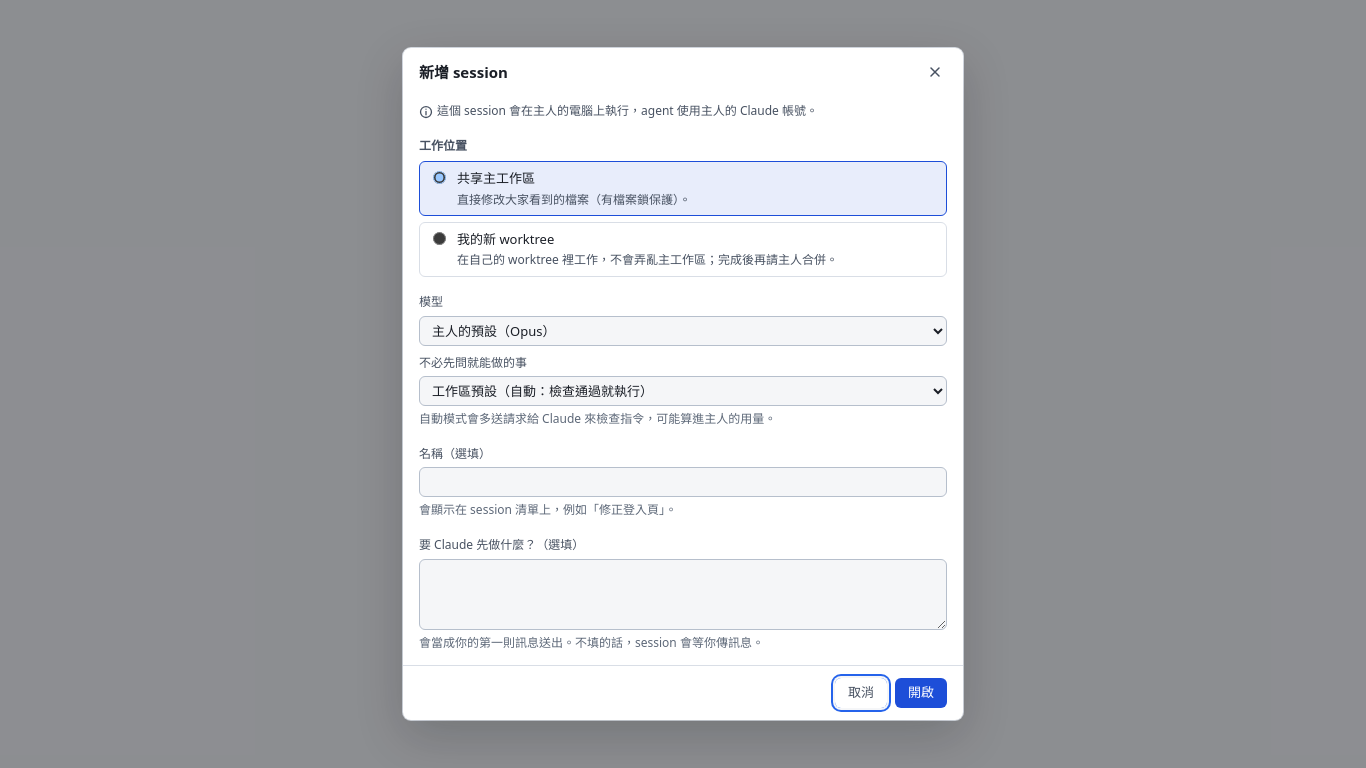
Scenario: new session dialog in zh-TW: git › a repository without a commit: the refusal says so, in the host’s words
The width and height of the screenshot is (1366, 768).
What coordinates should you click on to do the following:
click the radio button labelled "我的新 worktree 在自己的 worktree 裡工作，不會弄亂主工作區；完成後再請主人合併。"
I would click on:
 (440, 239)
Its box is [433,232,446,245].
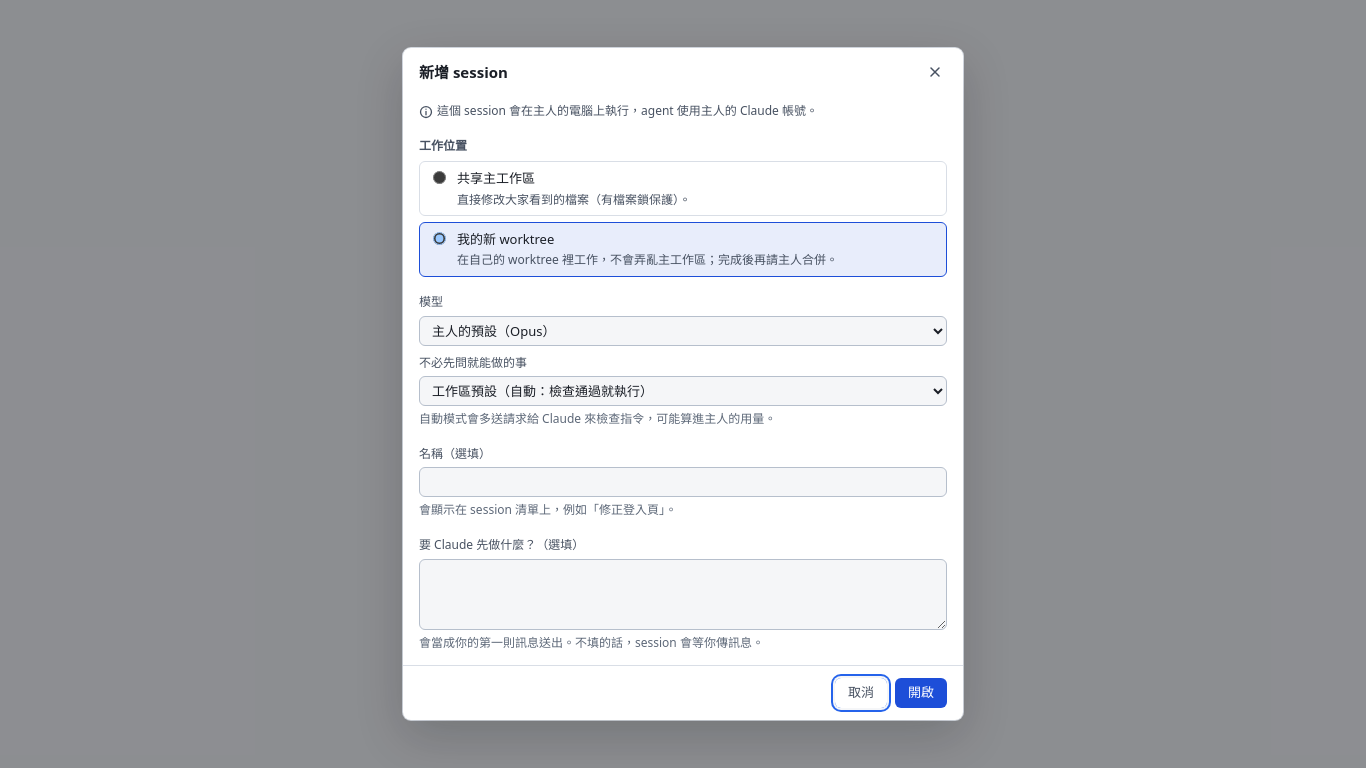
What coordinates should you click on to do the following:
click the button "開啟"
I would click on:
 (921, 693)
Its box is [895,678,947,708].
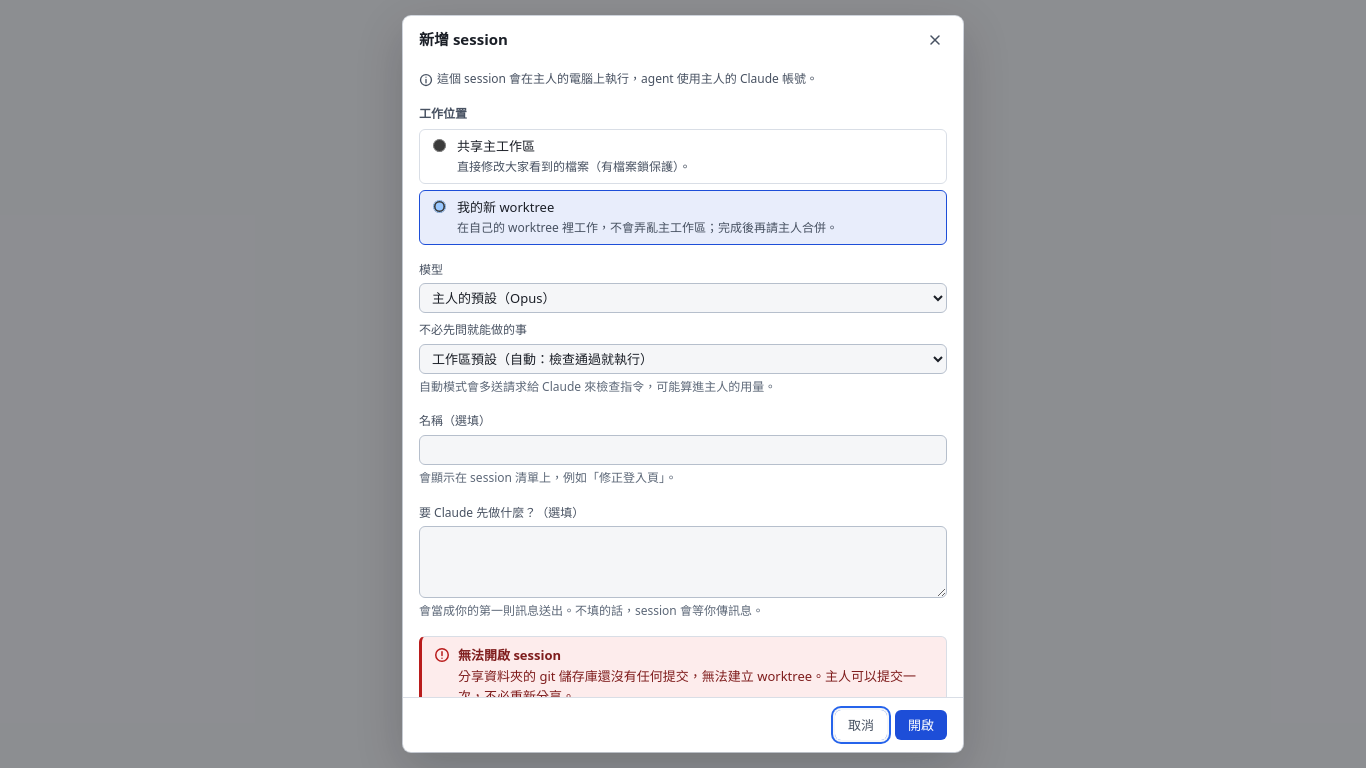
Expected: the message shows "分享資料夾的 git 儲存庫還沒有任何提交，無法建立 worktree。主人可以提交一次，不必重新分享。", [458,667,916,697]
